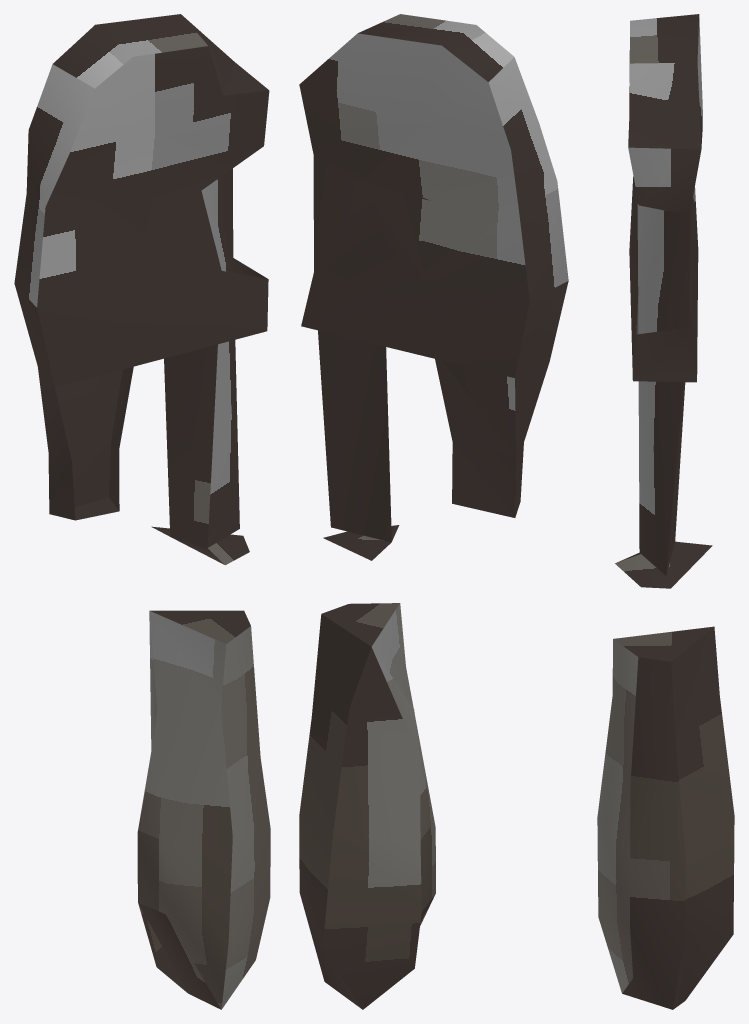
The model's file is adjustable_wrench.glb.
3 renders of one model, left to right at view 1: azimuth 30°, elevation 25°; view 2: azimuth 150°, elevation 25°; view 3: azimuth 270°, elevation 25°, orthographic. The views are drawn at different scales.
Visible parts, largest first — view 1: mesh; view 2: mesh; view 3: mesh.
Boxes of the visible parts, x1=… form: mesh: x1=14, y1=14, x2=270, y2=1009; mesh: x1=299, y1=14, x2=568, y2=1009; mesh: x1=597, y1=14, x2=734, y2=1009.
Size of the model in its own units: 0.065 by 0.2541 by 0.0334.
1 material, 1 textured.
